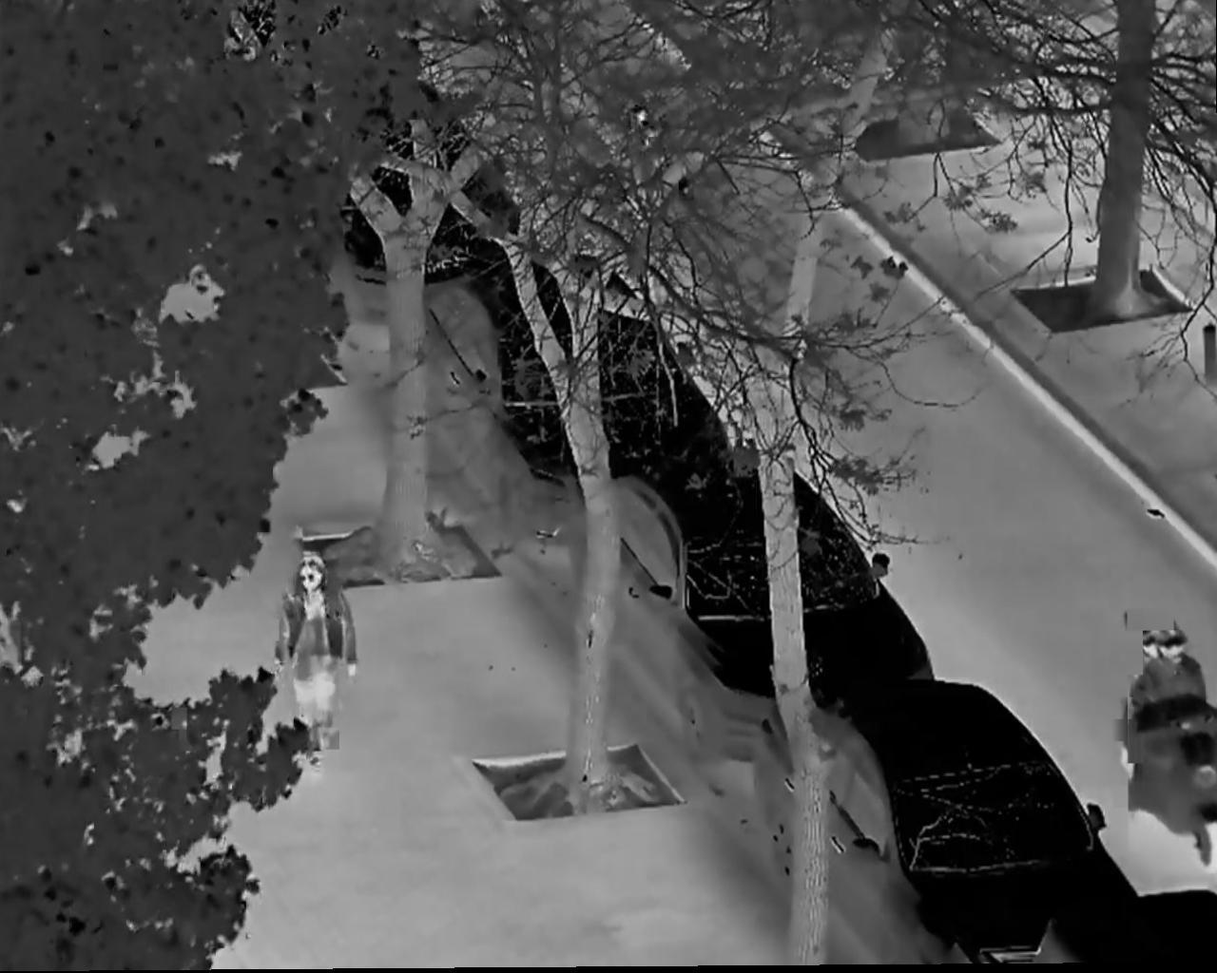person: (274, 550, 359, 772), (1123, 624, 1210, 800)
